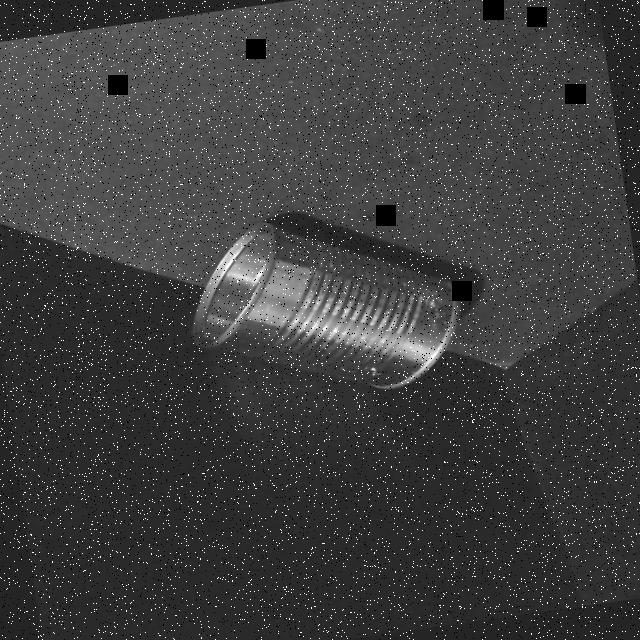can: (179, 188, 479, 420)
